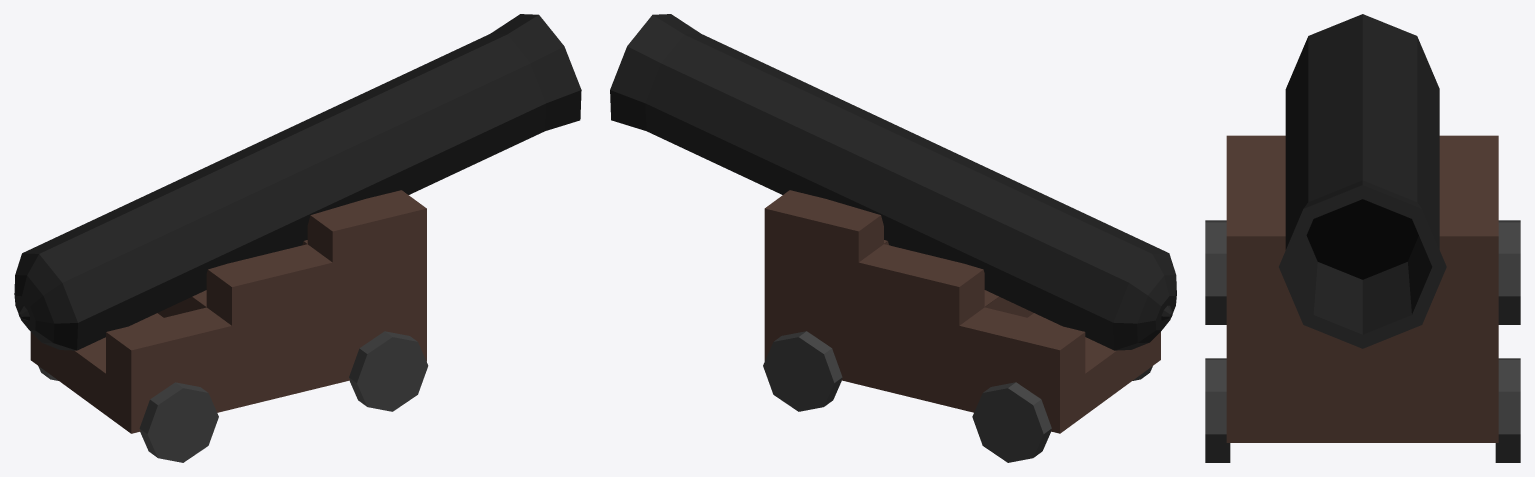
The model's file is Tower Cannon fix (1).fbx.
3 renders of one model, left to right at view 1: azimuth 30°, elevation 25°; view 2: azimuth 150°, elevation 25°; view 3: azimuth 270°, elevation 25°, orthographic. The views are drawn at different scales.
Visible parts, largest first — view 1: Cylinder.004, Cube.003; view 2: Cylinder.004, Cube.003; view 3: Cube.003, Cylinder.004.
Boxes of the visible parts, bbox=[...] form: Cylinder.004: bbox=[14, 14, 581, 350]; Cube.003: bbox=[30, 190, 428, 462]; Cylinder.004: bbox=[610, 14, 1176, 350]; Cube.003: bbox=[763, 190, 1160, 462]; Cube.003: bbox=[1205, 135, 1520, 462]; Cylinder.004: bbox=[1279, 14, 1446, 348].
Size of the model in its own units: 6.21 by 3.34 by 2.32.
